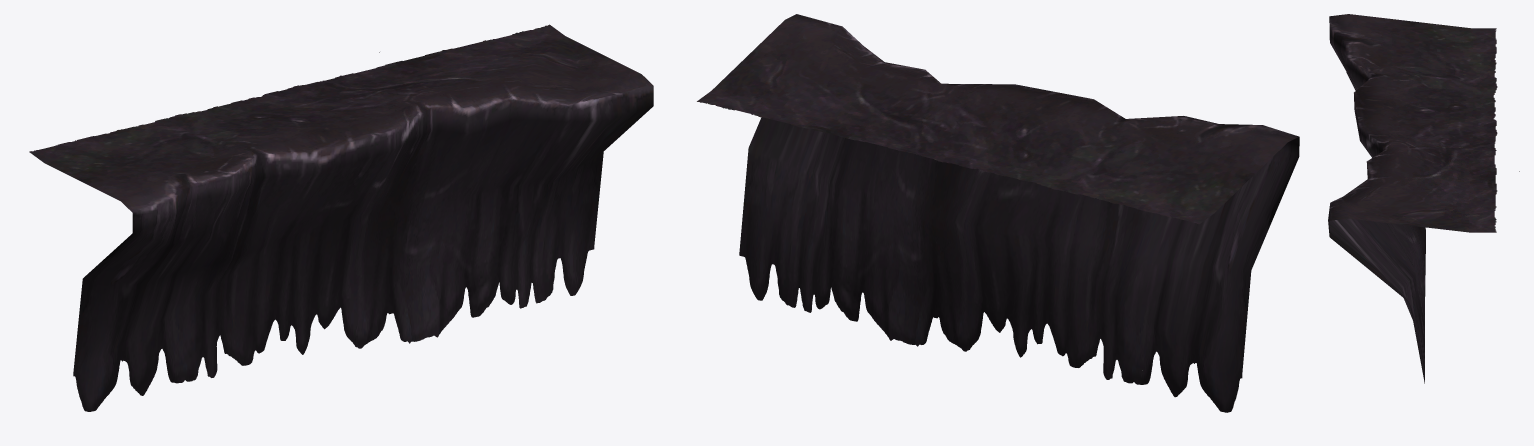
Rendered from cave_trim_straight_01.fbx.
3 renders of one model, left to right at view 1: azimuth 30°, elevation 25°; view 2: azimuth 150°, elevation 25°; view 3: azimuth 270°, elevation 25°, orthographic. The views are drawn at different scales.
Parts seen in each view (by area): view 1: cave_tileset/trim01_mat; view 2: cave_tileset/trim01_mat; view 3: cave_tileset/trim01_mat.
Boxes of the visible parts, bbox=[...] form: cave_tileset/trim01_mat: bbox=[29, 24, 653, 411]; cave_tileset/trim01_mat: bbox=[697, 14, 1299, 412]; cave_tileset/trim01_mat: bbox=[1328, 14, 1519, 383].
Bounding box in the file's own units: 4 × 1.96 × 1.59.
